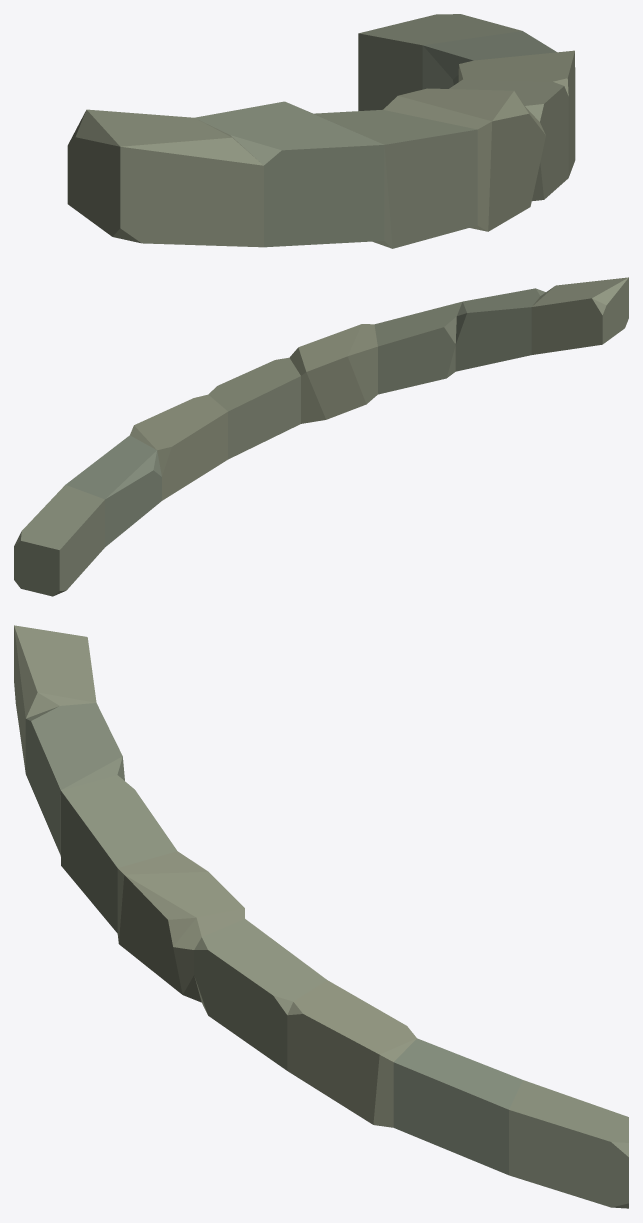
File: ramp_spiral_wide_railing_outside_short_clock.fbx
3 renders of one model, top to bottom at view 1: azimuth 30°, elevation 25°; view 2: azimuth 150°, elevation 25°; view 3: azimuth 270°, elevation 25°, orthographic. The views are drawn at different scales.
Visible parts, largest first — view 1: ramp_spiral_wide_railing_outside_short_clock; view 2: ramp_spiral_wide_railing_outside_short_clock; view 3: ramp_spiral_wide_railing_outside_short_clock.
Part boxes in pixels (box(x1,y1,x2,y2)): ramp_spiral_wide_railing_outside_short_clock: box(67, 14, 575, 248); ramp_spiral_wide_railing_outside_short_clock: box(14, 277, 628, 596); ramp_spiral_wide_railing_outside_short_clock: box(14, 625, 628, 1208).
Bounding box in the file's own units: 425 × 250 × 425.
